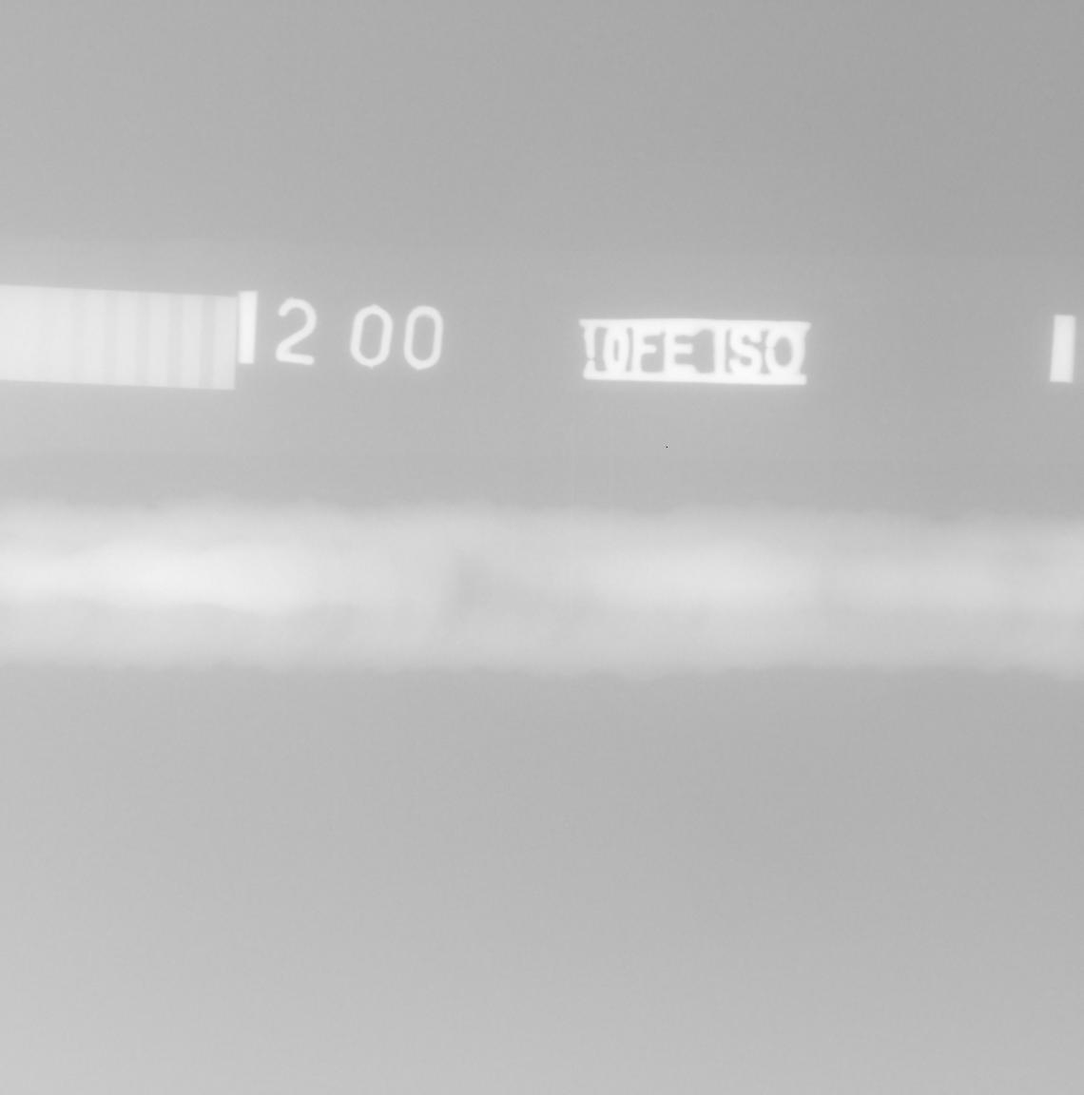Pore/Porosity: (317, 592, 324, 597), (547, 571, 552, 576), (788, 591, 793, 595)
